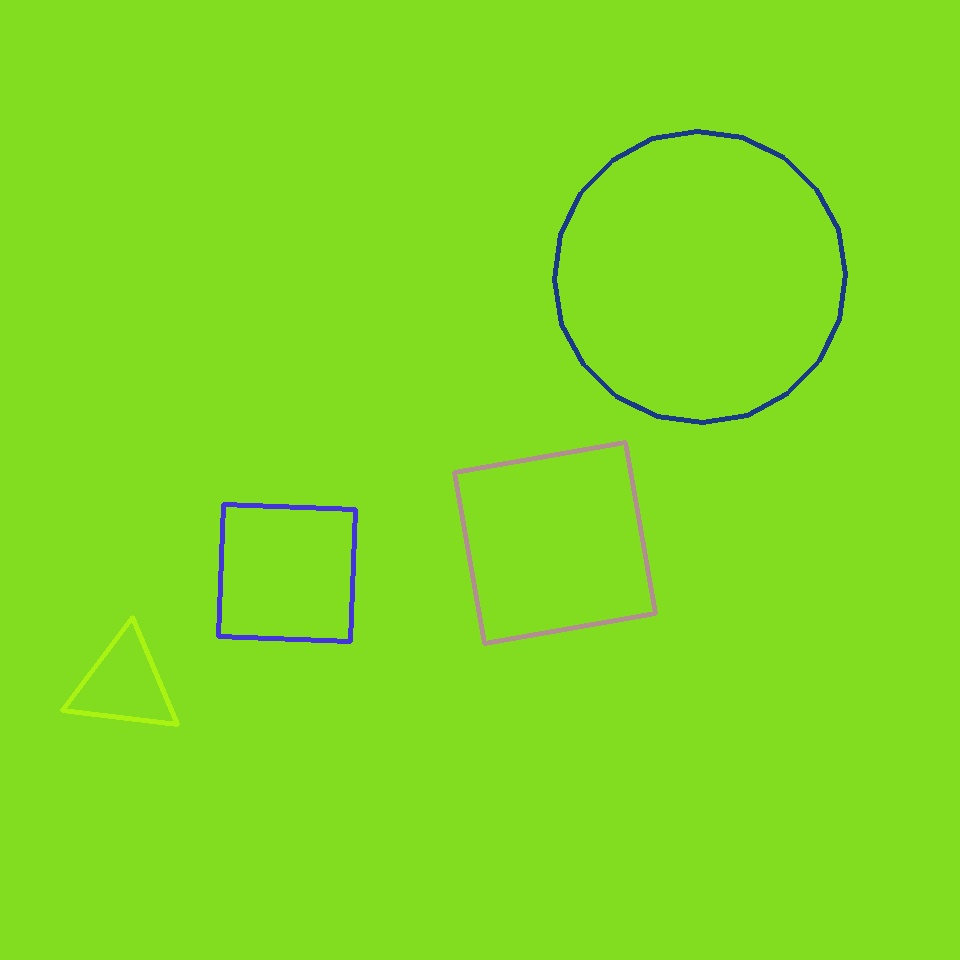circle: (66, 630, 182, 738)
square: (454, 443, 656, 644), (218, 505, 356, 642)
triangle: (554, 132, 845, 422)
